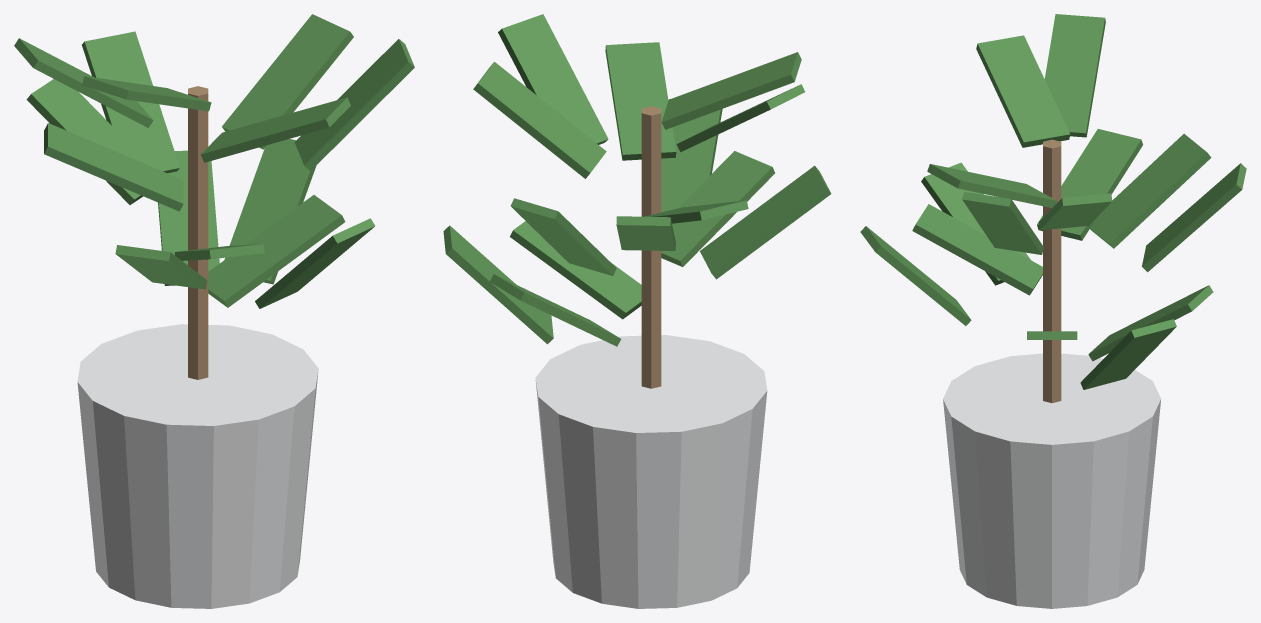
File: SM_Prop_Plant.glb
3 renders of one model, left to right at view 1: azimuth 30°, elevation 25°; view 2: azimuth 150°, elevation 25°; view 3: azimuth 270°, elevation 25°, orthographic. The views are drawn at different scales.
Parts seen in each view (by area): view 1: SM_Prop_Plant; view 2: SM_Prop_Plant; view 3: SM_Prop_Plant.
Boxes of the visible parts, x1,y1,x2,y2 form: SM_Prop_Plant: (14,14,414,608); SM_Prop_Plant: (443,14,831,608); SM_Prop_Plant: (860,14,1246,608).
Size of the model in its own units: 0.854 by 1.28 by 0.9208.
